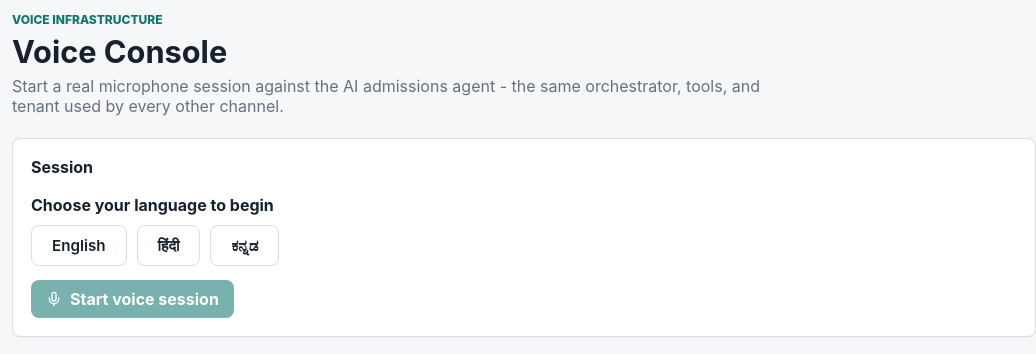
Test: VoiceConsole - language selection (English/Hindi/Kannada) › shows exactly the three language options, with Start disabled until one is chosen
Expected: the radio button labelled "English" is shown, [31,225,127,266]
Expected: the radio button labelled "ಕನ್ನಡ" is shown, [210,225,279,266]
Step 1. Click the radio button labelled "हिंदी" → (168, 246), box [137,225,200,266]
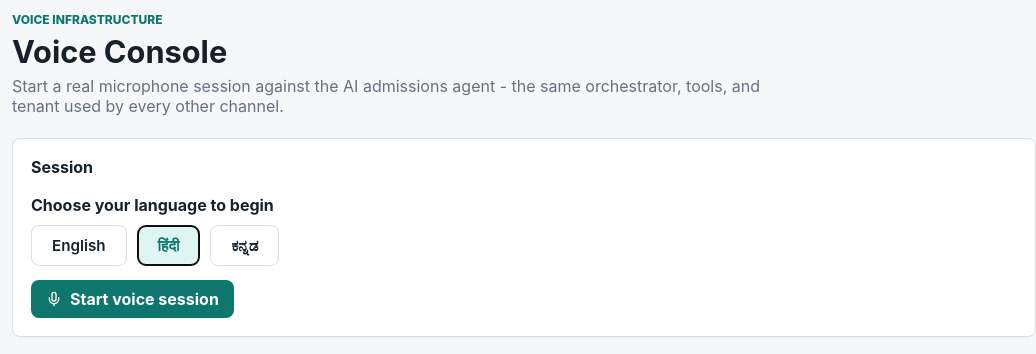
Now the button "Start voice session" is enabled, box [31,280,234,318]
